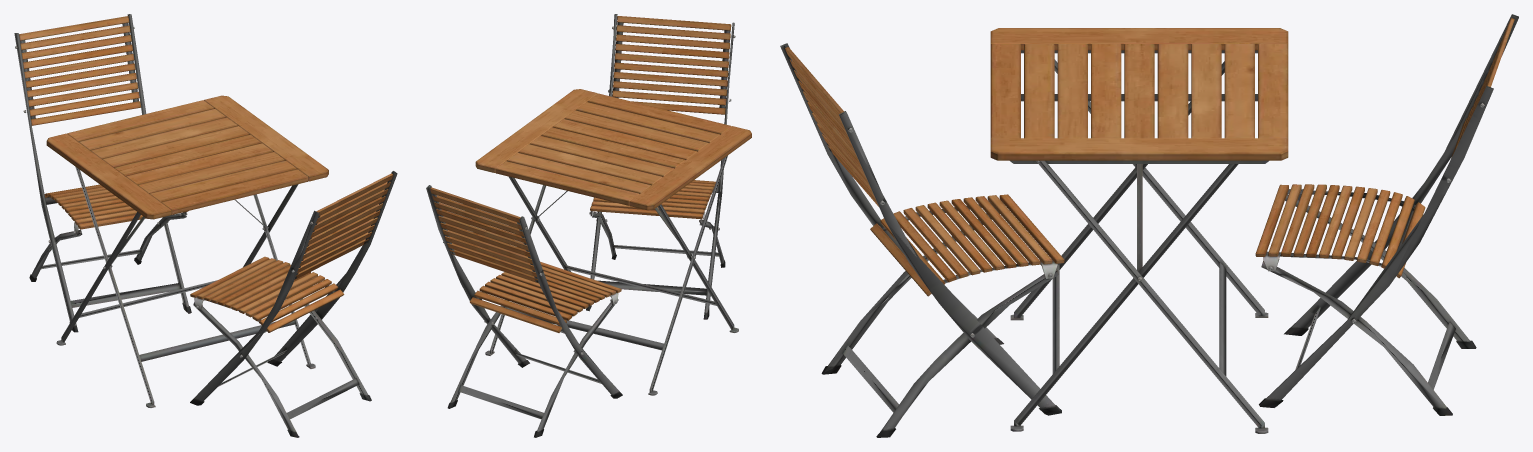
Rendered from outdoor_table_chair_set_01.glb.
3 renders of one model, left to right at view 1: azimuth 30°, elevation 25°; view 2: azimuth 150°, elevation 25°; view 3: azimuth 270°, elevation 25°, orthographic. The views are drawn at different scales.
Visible parts, largest first — view 1: outdoor_table_chair_set_01_chair_01, outdoor_table_chair_set_01_table; view 2: outdoor_table_chair_set_01_chair_01, outdoor_table_chair_set_01_table; view 3: outdoor_table_chair_set_01_table, outdoor_table_chair_set_01_chair_01.
Boxes of the visible parts, left/top/right/bottom form: outdoor_table_chair_set_01_chair_01: left=14, top=14, right=397, bottom=437; outdoor_table_chair_set_01_table: left=46, top=95, right=328, bottom=407; outdoor_table_chair_set_01_chair_01: left=426, top=14, right=735, bottom=437; outdoor_table_chair_set_01_table: left=475, top=89, right=751, bottom=395; outdoor_table_chair_set_01_table: left=990, top=28, right=1288, bottom=433; outdoor_table_chair_set_01_chair_01: left=780, top=14, right=1518, bottom=437.
Bounding box in the file's own units: 0.7417 × 0.8557 × 1.72.
2 materials, 2 textured.
